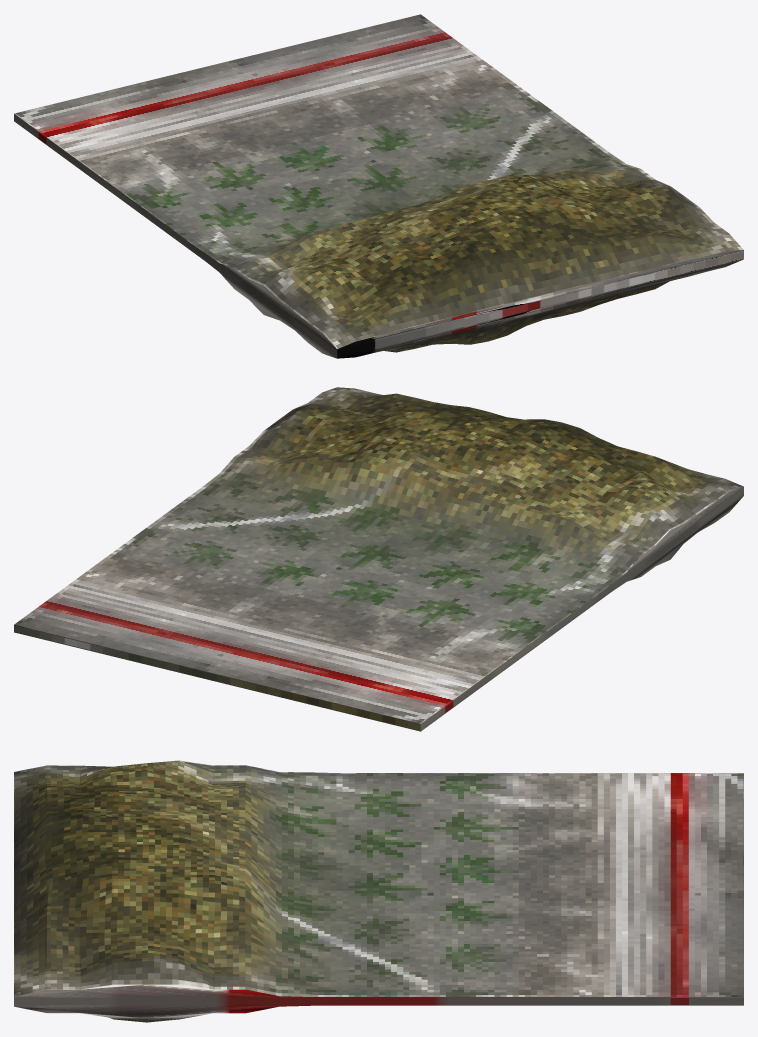
File: weed-1g.glb
The picture shows the model from 3 angles, top to bottom: view 1: azimuth 30°, elevation 25°; view 2: azimuth 150°, elevation 25°; view 3: azimuth 270°, elevation 25°; orthographic projection. The views are drawn at different scales.
Visible parts, largest first — view 1: Cube_0; view 2: Cube_0; view 3: Cube_0.
Part boxes in pixels (x1,y1,x2,y2): Cube_0: (14, 14, 743, 358); Cube_0: (14, 387, 743, 731); Cube_0: (14, 760, 743, 1022).
Bounding box in the file's own units: 2.3 × 0.5016 × 3.16.
1 material, 1 textured.
